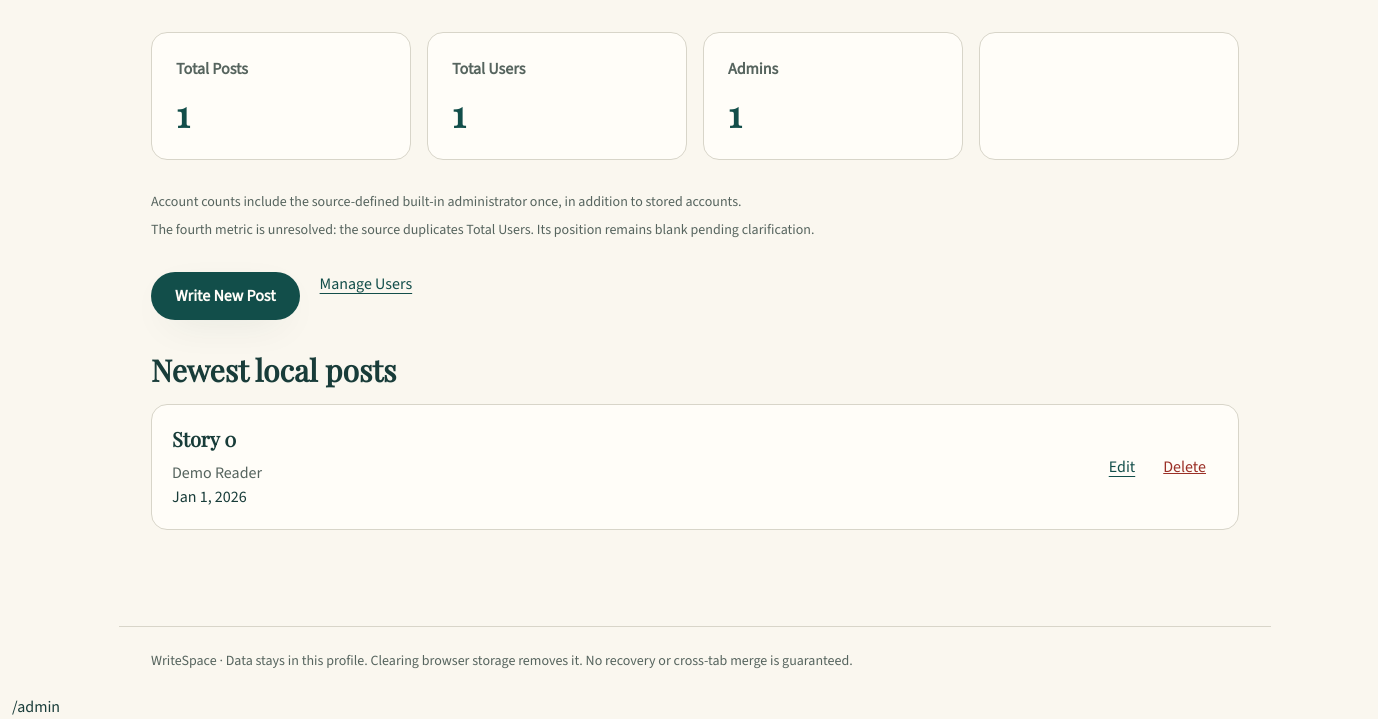
it: real dashboard and routed controls › activates inline edit of another author and saves through the existing editor preserving metadata
(page scrolled)
Click the link with aria-label "Edit Story 0" at [1122, 467], box [1109,455,1135,479]
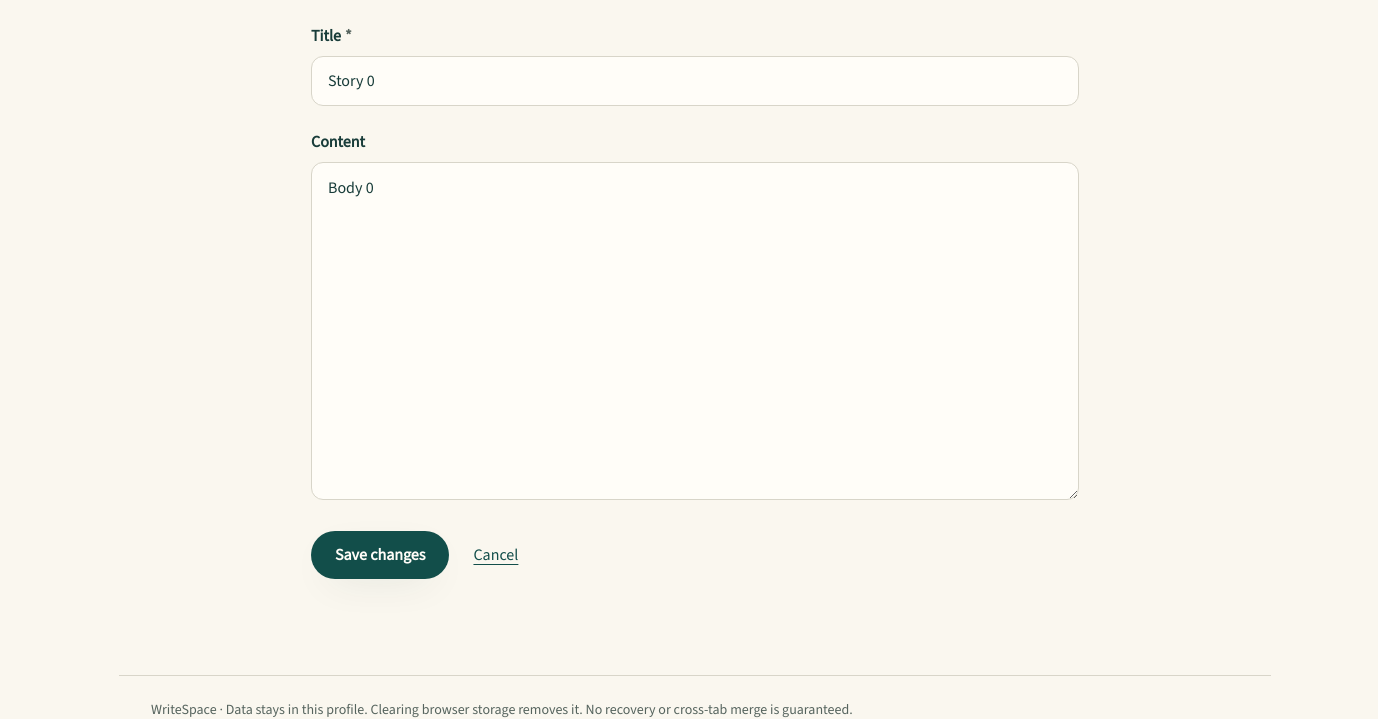
Expected: the field labelled "Title" holds "Story 0"
Replace the text in the field labelled "Title" with "Moderated title" at [695, 81], box [311,56,1079,106]
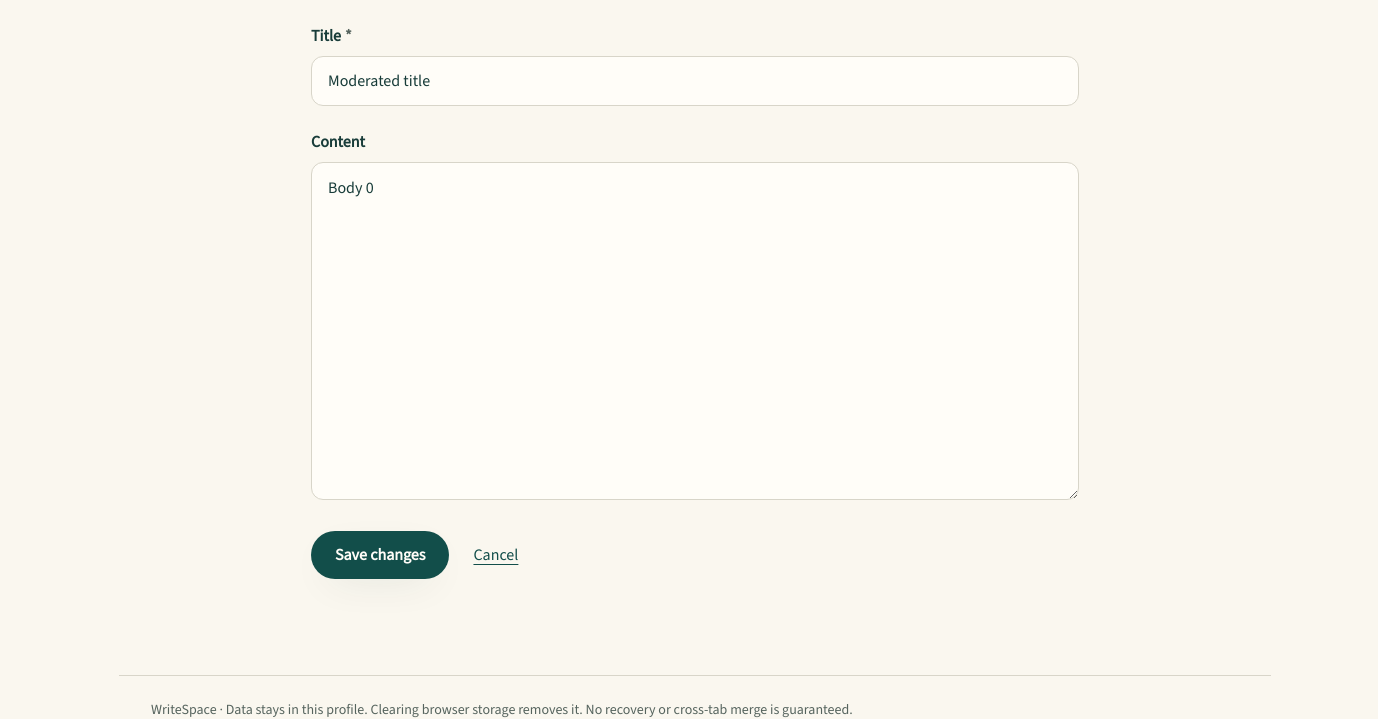
Click the button "Save changes" at [380, 555], box [311,531,450,579]
(page scrolled)
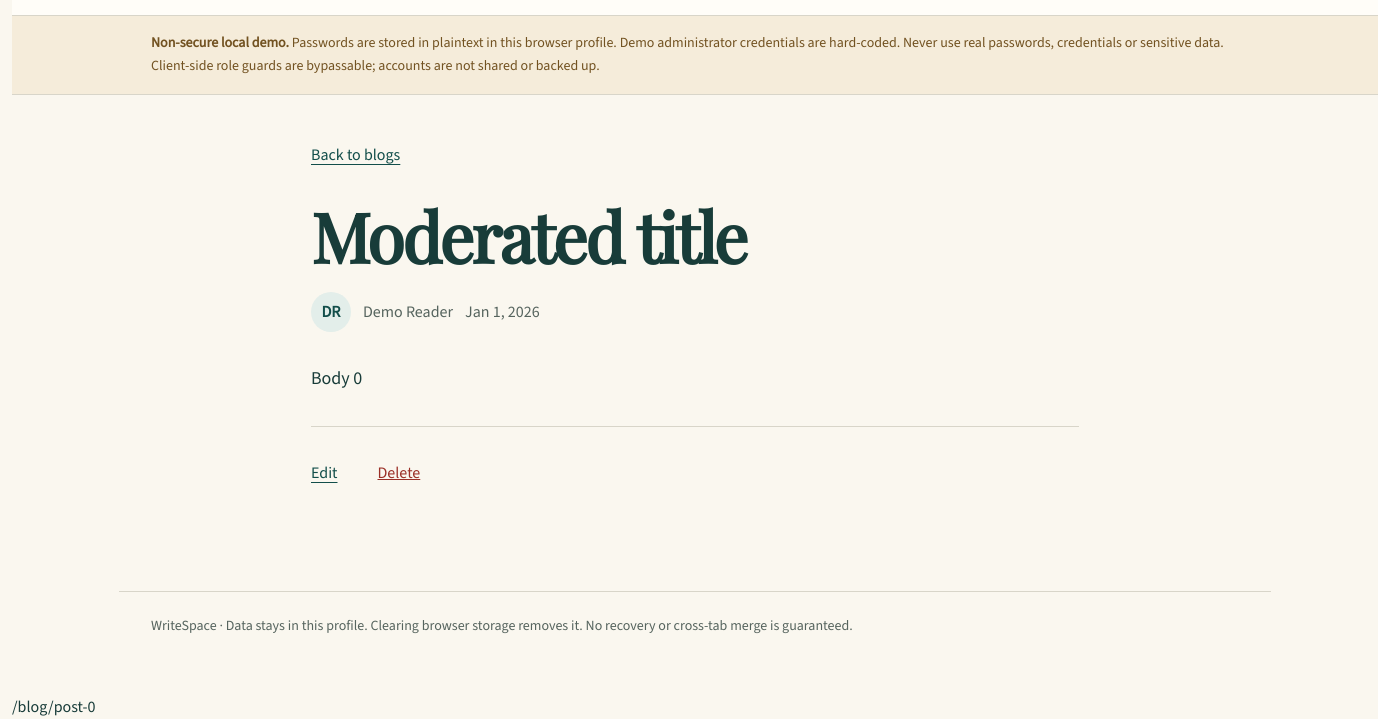
Expected: the text named "Current route" reads "/blog/post-0", [12,696,96,717]
